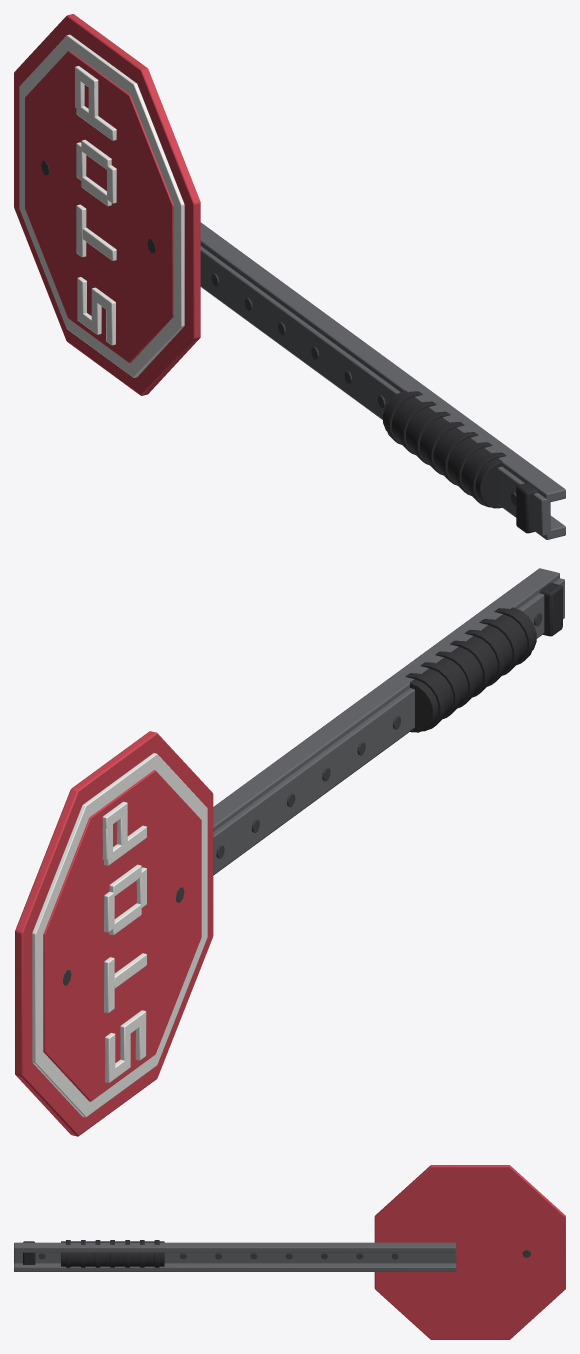
Rendered from mazo_senal.glb.
The picture shows the model from 3 angles, top to bottom: view 1: azimuth 30°, elevation 25°; view 2: azimuth 150°, elevation 25°; view 3: azimuth 270°, elevation 25°; orthographic projection. The views are drawn at different scales.
Parts seen in each view (by area): view 1: mazo_senal; view 2: mazo_senal; view 3: mazo_senal.
Boxes of the visible parts, left/top/right/bottom form: mazo_senal: left=14, top=14, right=565, bottom=539; mazo_senal: left=15, top=568, right=564, bottom=1136; mazo_senal: left=14, top=1165, right=565, bottom=1339.
Bounding box in the file's own units: 0.0626 × 0.4065 × 1.17.
